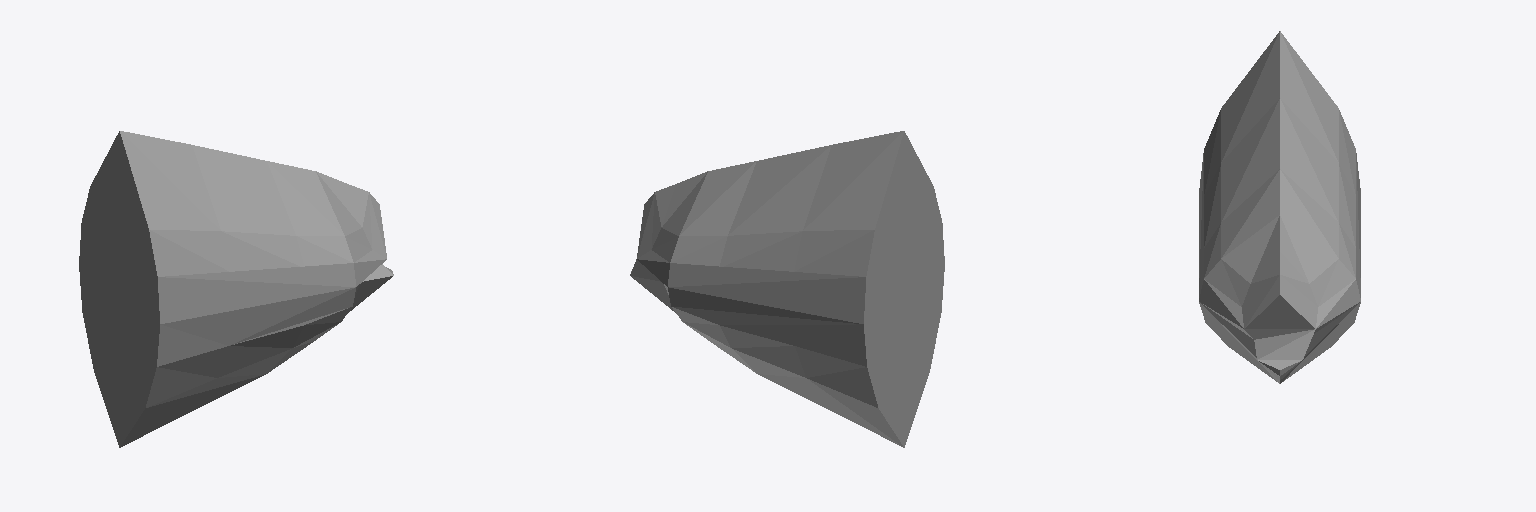
File: HeadFix.obj
3 views of the same model, side by side, from view 1: azimuth 30°, elevation 25°; view 2: azimuth 150°, elevation 25°; view 3: azimuth 270°, elevation 25° (orthographic).
Parts seen in each view (by area): view 1: head_Plane.001; view 2: head_Plane.001; view 3: head_Plane.001.
Part boxes in pixels (left/top/right/bottom): head_Plane.001: left=79, top=131, right=393, bottom=447; head_Plane.001: left=630, top=131, right=944, bottom=447; head_Plane.001: left=1199, top=31, right=1360, bottom=383.
Size of the model in its own units: 0.3112 by 0.3461 by 0.1607.